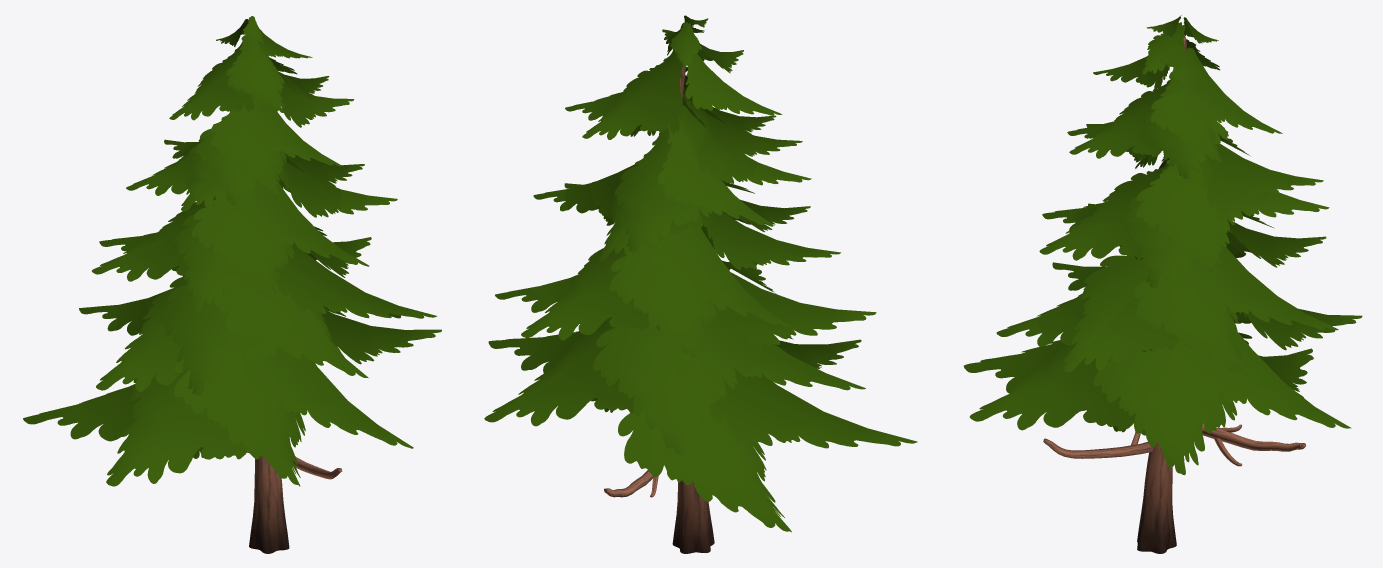
File: Pine_2.gltf
3 views of the same model, side by side, from view 1: azimuth 30°, elevation 25°; view 2: azimuth 150°, elevation 25°; view 3: azimuth 270°, elevation 25° (orthographic). The views are drawn at different scales.
Visible parts, largest first — view 1: Pine_2; view 2: Pine_2; view 3: Pine_2.
Boxes of the visible parts, <box> form: Pine_2: <box>23,16,441,553</box>; Pine_2: <box>484,15,917,553</box>; Pine_2: <box>963,15,1362,553</box>.
Size of the model in its own units: 5.73 by 7.38 by 5.22.
2 materials, 2 textured.
